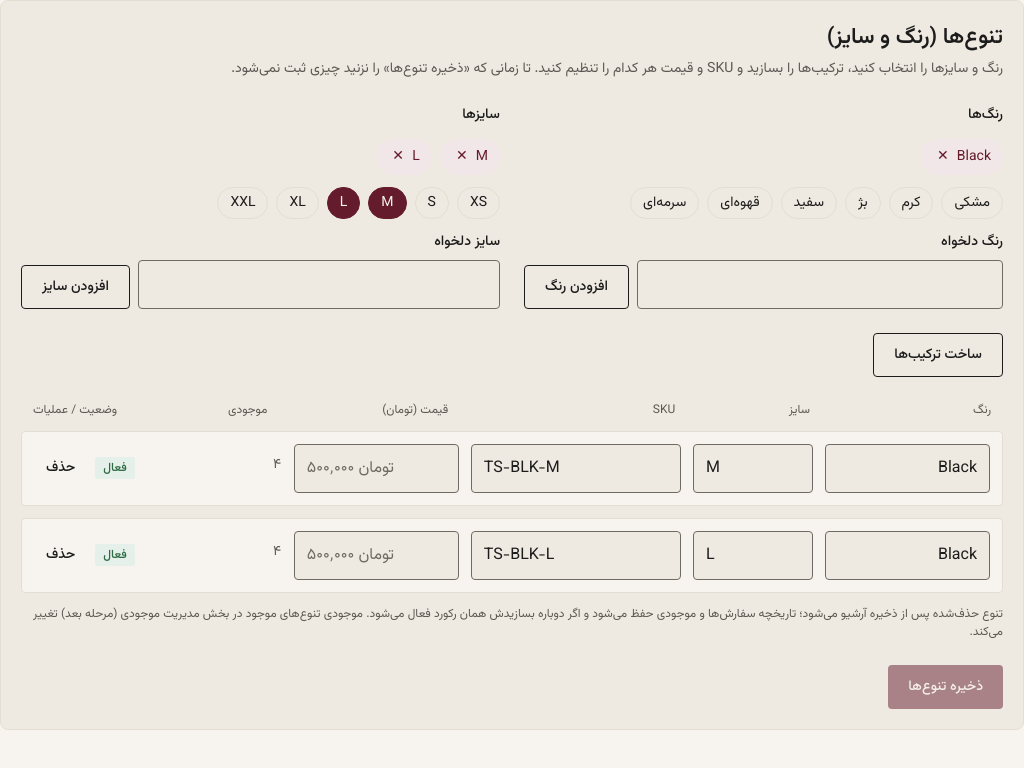
Test case: Variant Builder › 4) حذف ردیف، آن را از فهرست برمی‌دارد
What coordinates should you click on to do the following:
click the button with aria-label "حذف تنوع ۱: Black / M"
I would click on:
 (61, 468)
Its box is [34, 450, 87, 486].
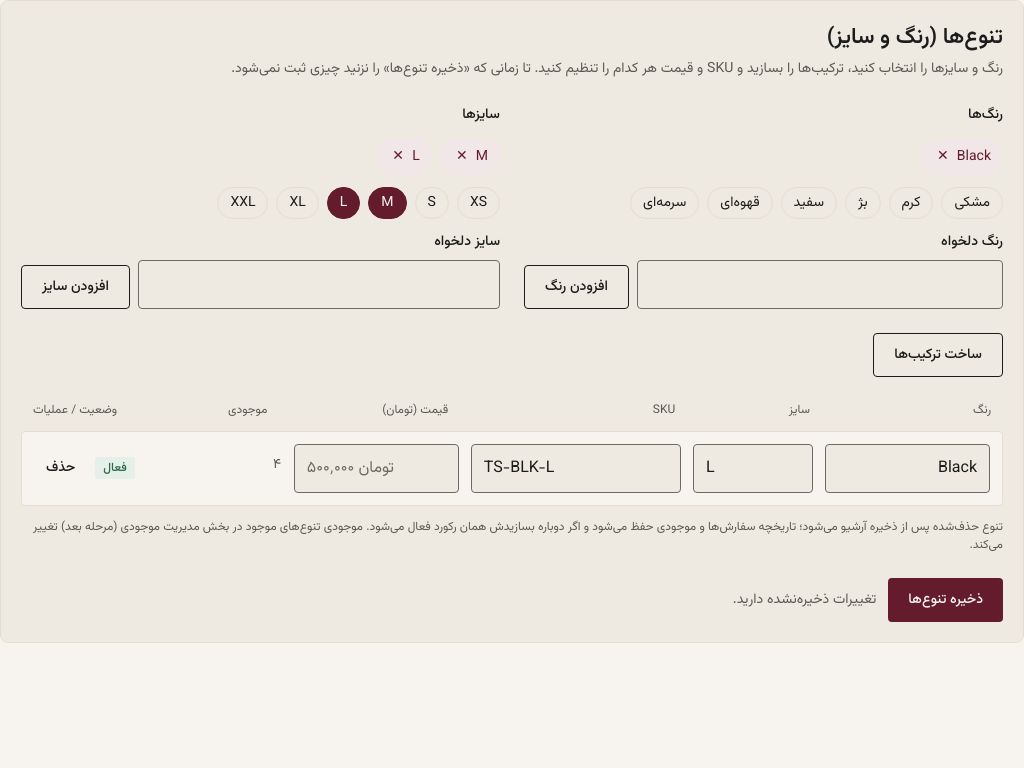
Check: the text "تغییرات ذخیره‌نشده دارید." is shown, box [733, 589, 876, 611]
